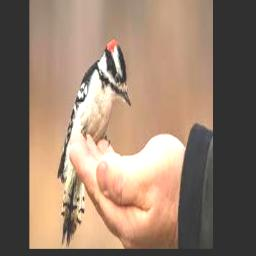Woodpecker: (57, 38, 131, 248)
